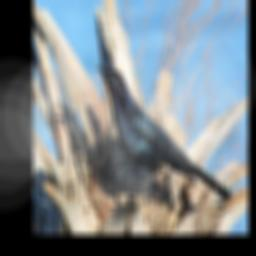Crow: (96, 66, 232, 212)
